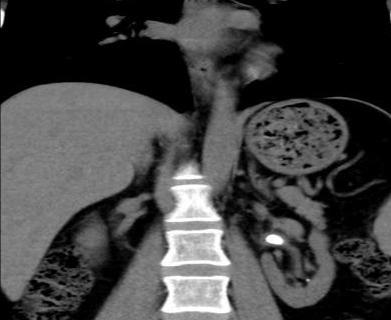Tas_Var: (264, 230, 286, 248), (304, 277, 312, 283)
